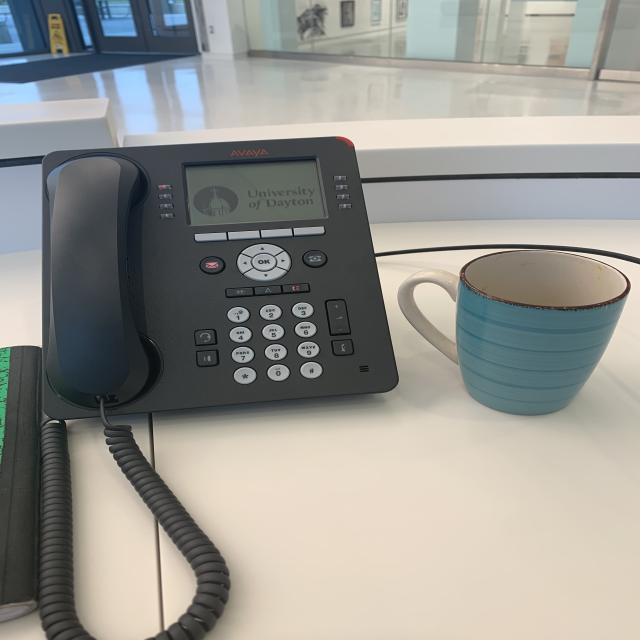Cup: (385, 248, 637, 427)
